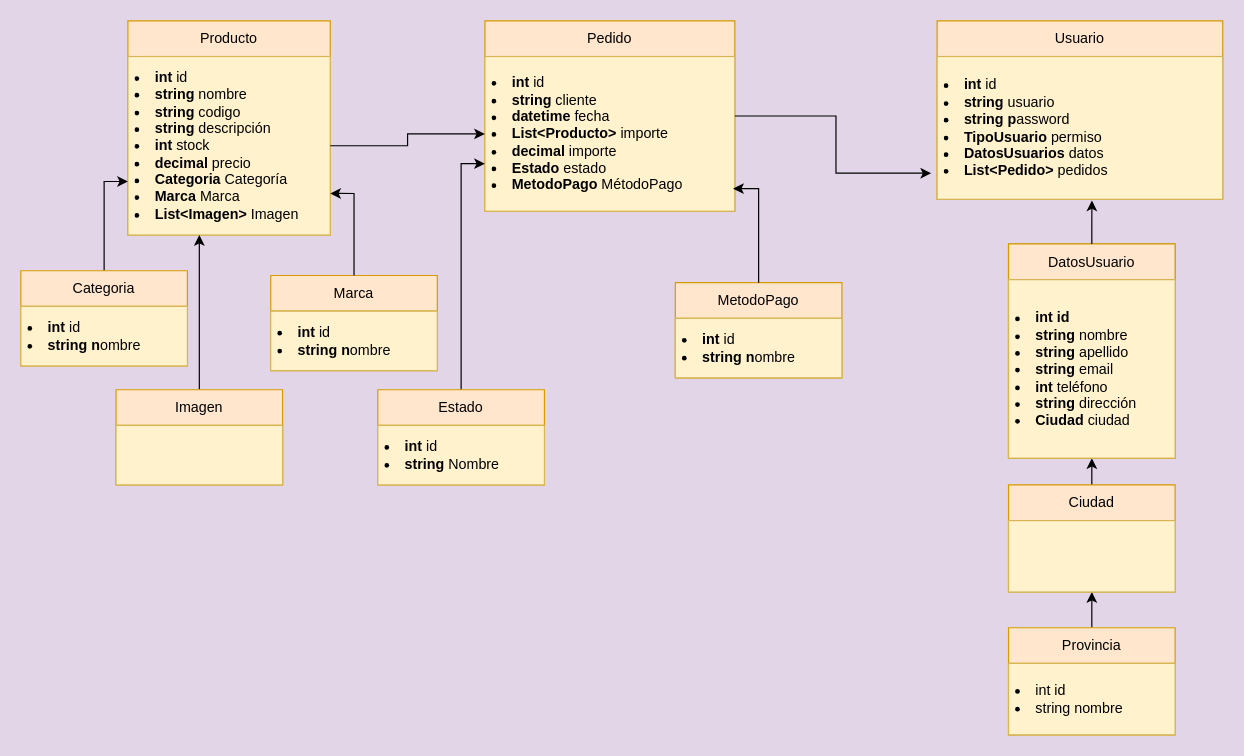
The diagram is 1244 pixels wide and 756 high, and some of its shapes have lost their labels. The shapes that lost their labels are listed below. From the top down, each one's centre as x and y in pixels, then its label:
At point 199,454: "int id int idProducto string n ombre".
At point 1091,555: "int id string nombre Provincia provincia".
